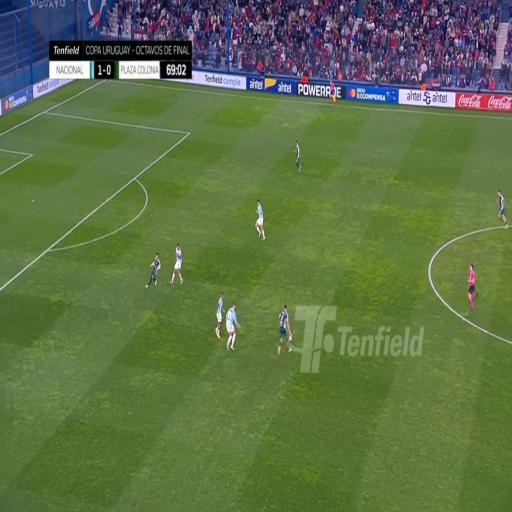Player: (277, 304, 292, 356), (170, 239, 184, 284), (227, 297, 238, 351), (146, 250, 161, 284), (213, 290, 223, 337), (496, 186, 506, 233), (256, 196, 266, 242), (294, 139, 302, 174)
Referee: (465, 260, 481, 306)
